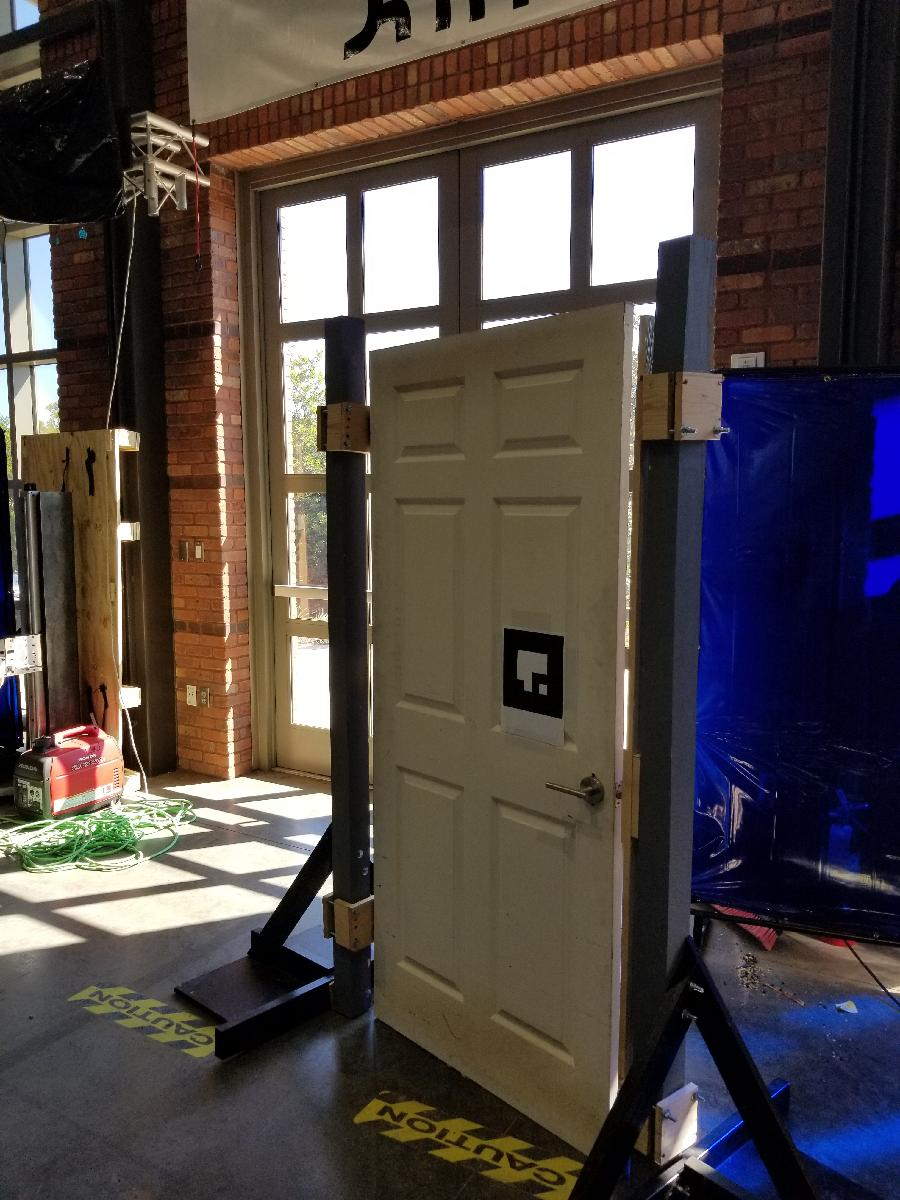door: (363, 298, 634, 1179)
doorHandle: (539, 768, 616, 815)
